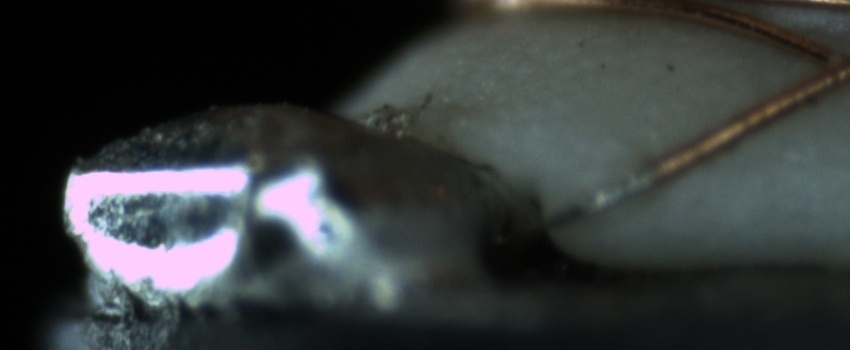CL: (800, 35, 850, 94)
TS: (531, 167, 663, 235)
TTCW: (528, 159, 669, 236)
